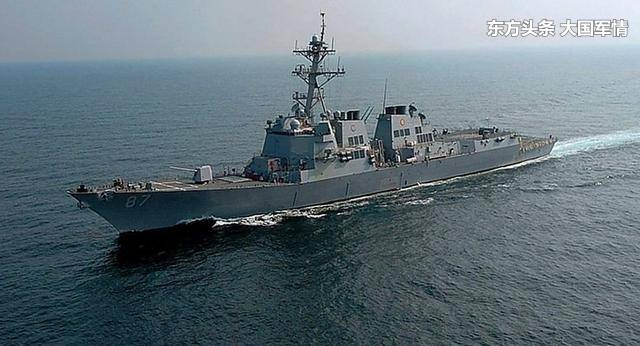warship: (64, 12, 563, 238)
